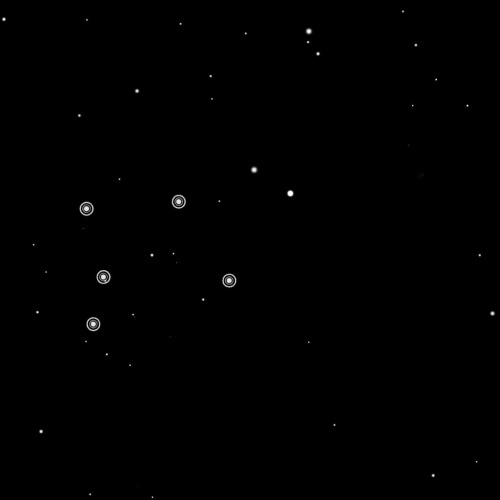libra: (73, 191, 246, 338)
